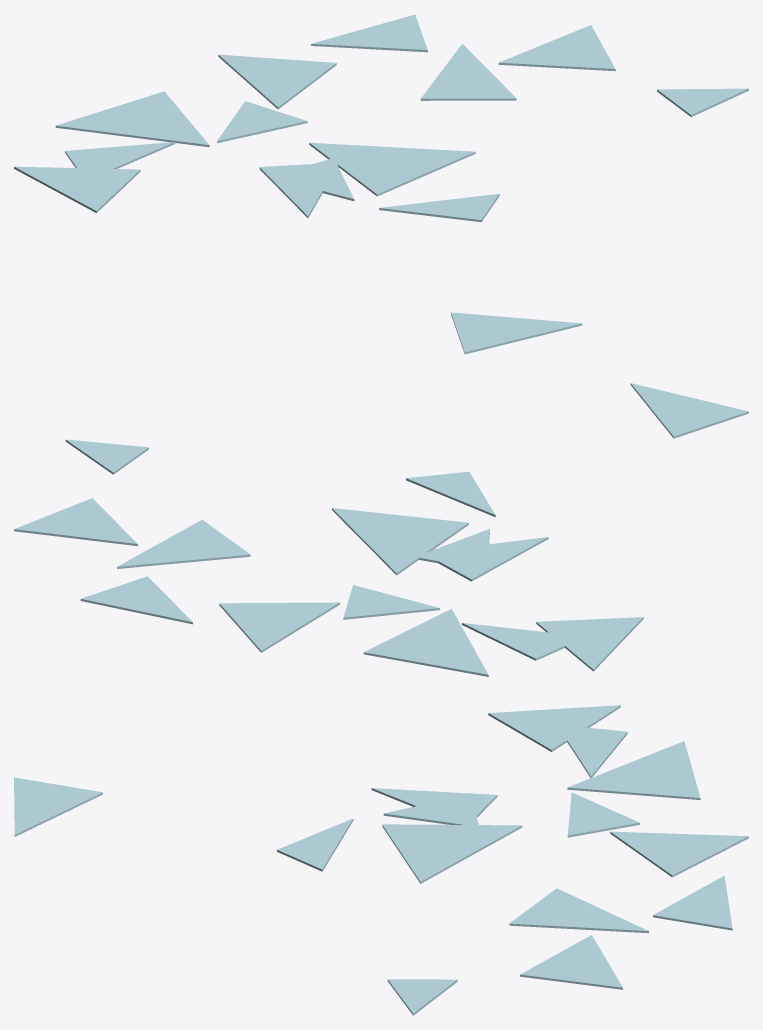
File: demolition.piece.glass.glb
3 views of the same model, one above another, from view 1: azimuth 30°, elevation 25°; view 2: azimuth 150°, elevation 25°; view 3: azimuth 270°, elevation 25° (orthographic).
Visible parts, largest first — view 1: main__glass; view 2: main__glass; view 3: main__glass.
Part boxes in pixels (left/top/right/bottom): main__glass: left=14, top=14, right=748, bottom=354; main__glass: left=14, top=383, right=748, bottom=676; main__glass: left=14, top=705, right=748, bottom=1015.
Bounding box in the file's own units: 1.25 × 0.004 × 1.26.
